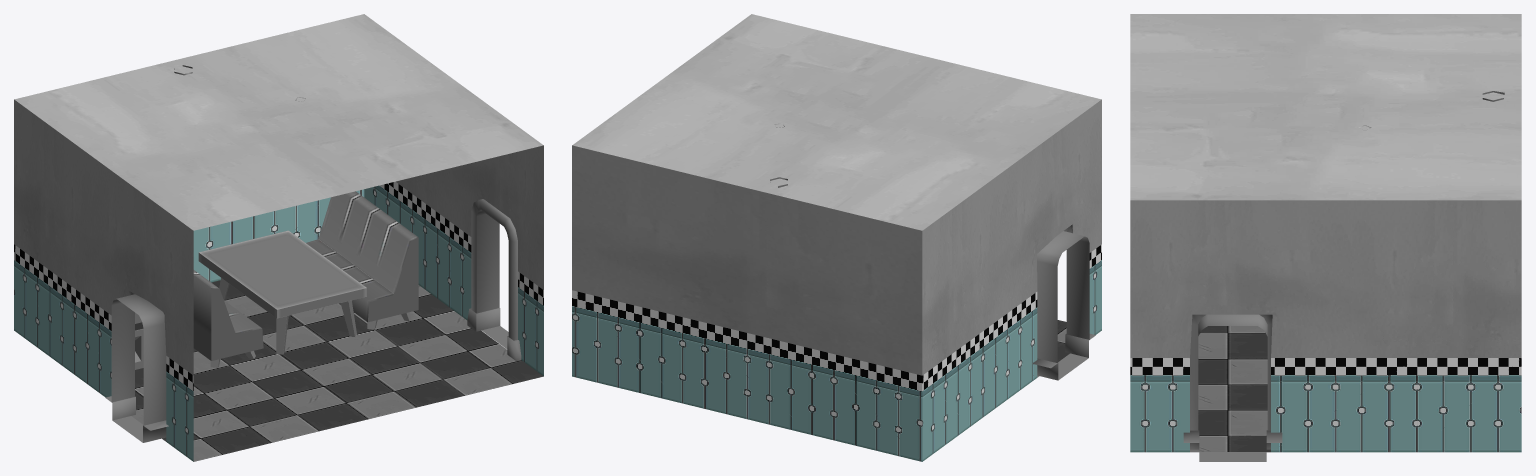
The model's file is MHS_Cafeteria_L1_R1_optimized.fbx.
3 views of the same model, side by side, from view 1: azimuth 30°, elevation 25°; view 2: azimuth 150°, elevation 25°; view 3: azimuth 270°, elevation 25° (orthographic). The views are drawn at different scales.
Parts seen in each view (by area): view 1: lightmap0, lightmap-1; view 2: lightmap0, lightmap-1; view 3: lightmap0, lightmap-1.
Part boxes in pixels (bbox=[...]): lightmap0: bbox=[14, 14, 543, 461]; lightmap-1: bbox=[111, 210, 508, 442]; lightmap0: bbox=[572, 14, 1101, 461]; lightmap-1: bbox=[1037, 231, 1089, 380]; lightmap0: bbox=[1130, 14, 1521, 452]; lightmap-1: bbox=[1198, 314, 1267, 461].
Size of the model in its own units: 10.3 by 5.92 by 8.26.
